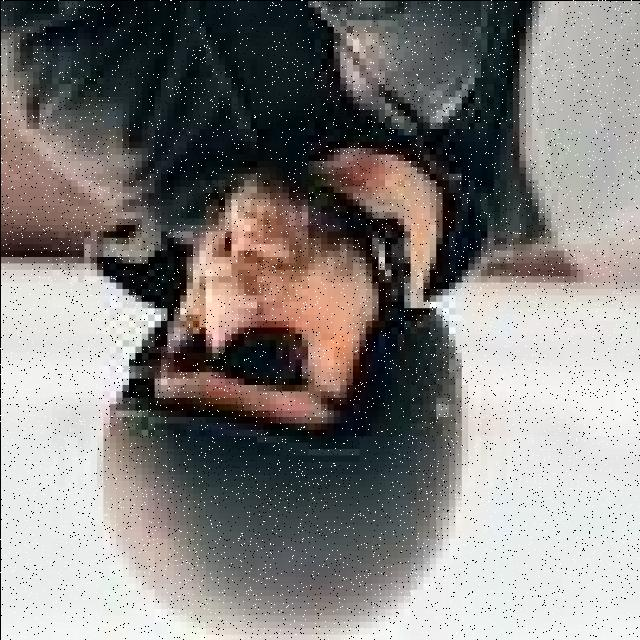Helmet: (105, 307, 459, 632)
